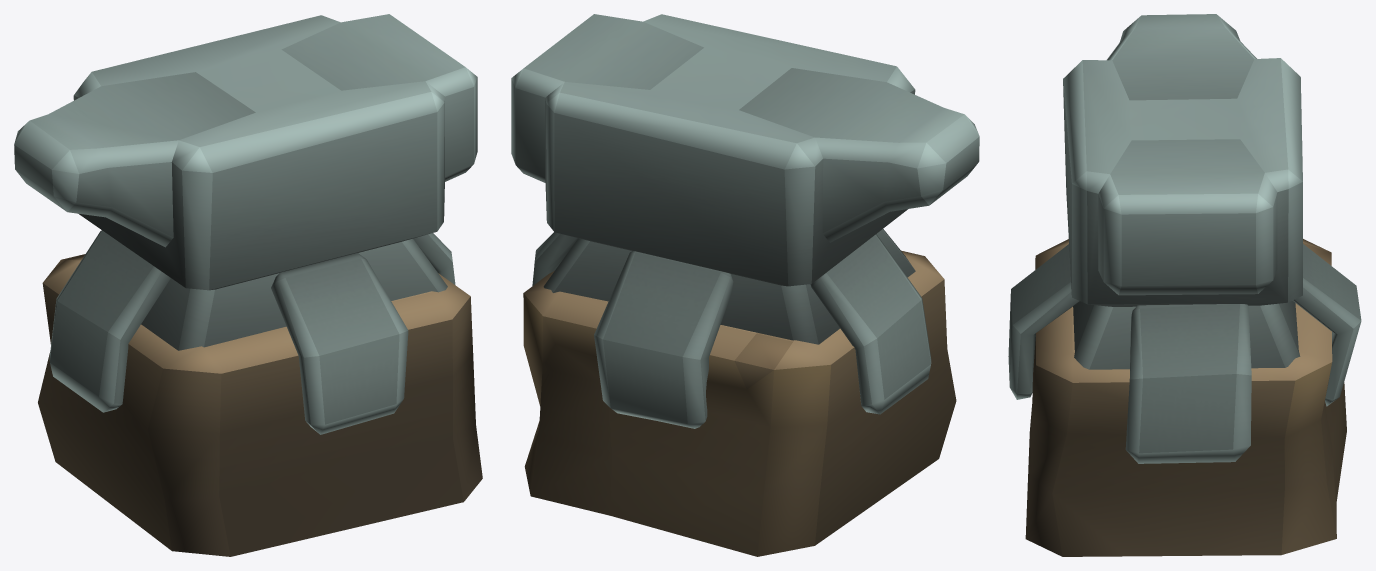
File: orc_anvil_big.fbx
3 views of the same model, side by side, from view 1: azimuth 30°, elevation 25°; view 2: azimuth 150°, elevation 25°; view 3: azimuth 270°, elevation 25° (orthographic). The views are drawn at different scales.
Parts seen in each view (by area): view 1: orc_anvil_big; view 2: orc_anvil_big; view 3: orc_anvil_big.
Boxes of the visible parts, <box> form: orc_anvil_big: <box>14,14,482,556</box>; orc_anvil_big: <box>511,14,979,556</box>; orc_anvil_big: <box>1008,14,1361,556</box>.
Size of the model in its own units: 249 by 223 by 193.
